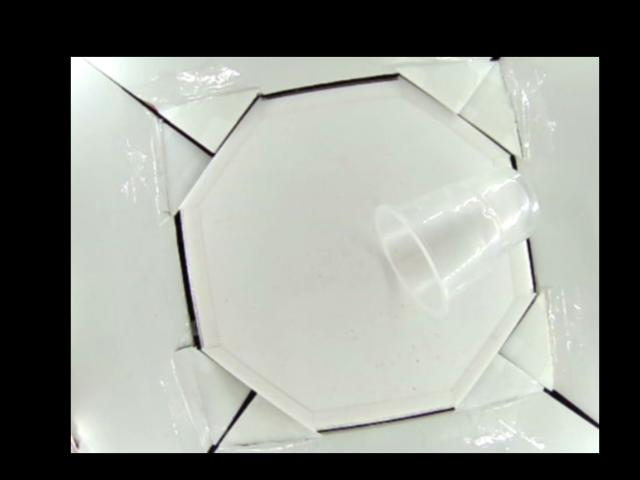Cup: (372, 164, 540, 312)
